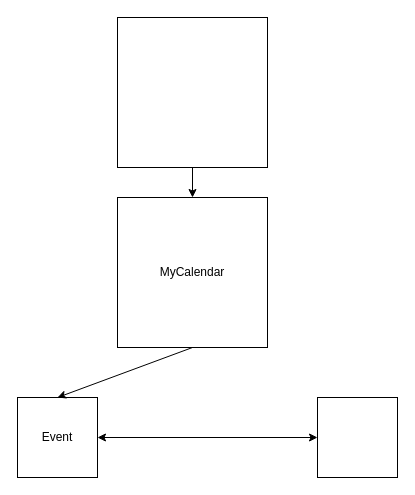
This 415x495 diagram has some shape labels left out. Each missing label, with the centre of its shape:
"MyCalendarTester" goes at (192,92).
"TimeInterval" goes at (357,437).
